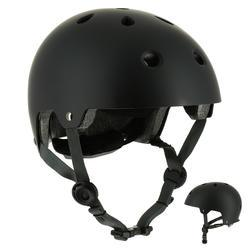helmet: (13, 21, 239, 234)
